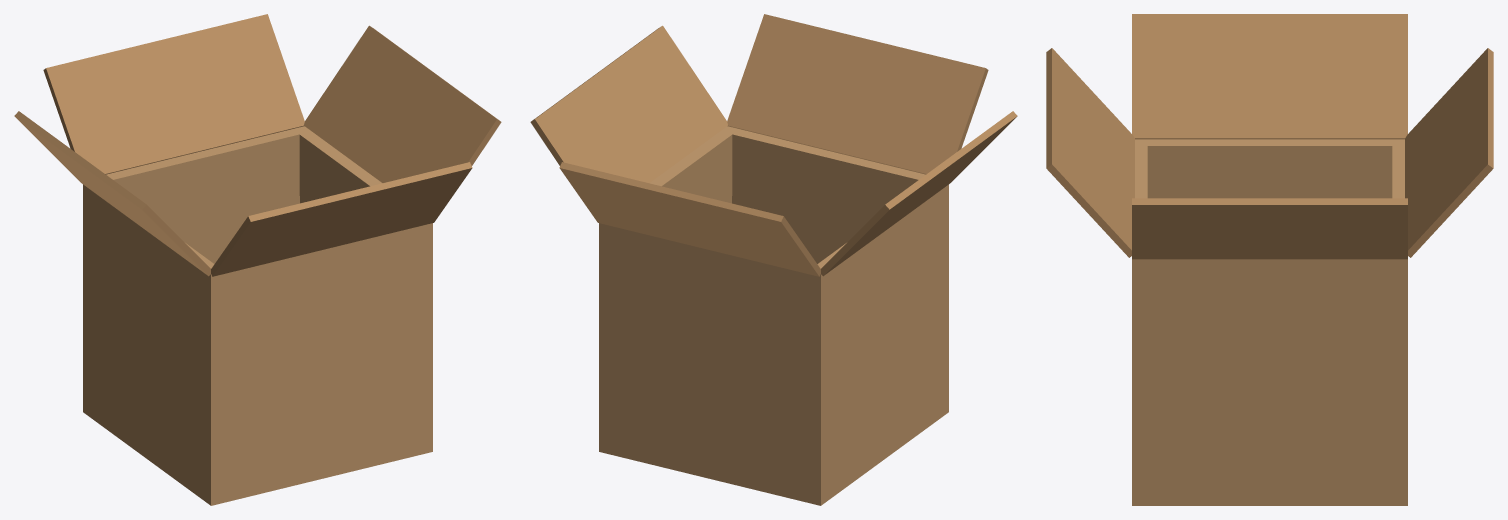
File: Cardboard.fbx
3 views of the same model, side by side, from view 1: azimuth 30°, elevation 25°; view 2: azimuth 150°, elevation 25°; view 3: azimuth 270°, elevation 25° (orthographic). The views are drawn at different scales.
Parts seen in each view (by area): view 1: Body, Flaps; view 2: Body, Flaps; view 3: Body, Flaps.
Boxes of the visible parts, x1,y1,x2,y2 form: Body: (83, 126, 432, 505); Flaps: (14, 14, 501, 276); Body: (599, 126, 948, 505); Flaps: (530, 14, 1017, 276); Body: (1132, 139, 1407, 505); Flaps: (1046, 14, 1493, 259).
Size of the model in its own units: 4.86 by 4.1 by 4.86.
